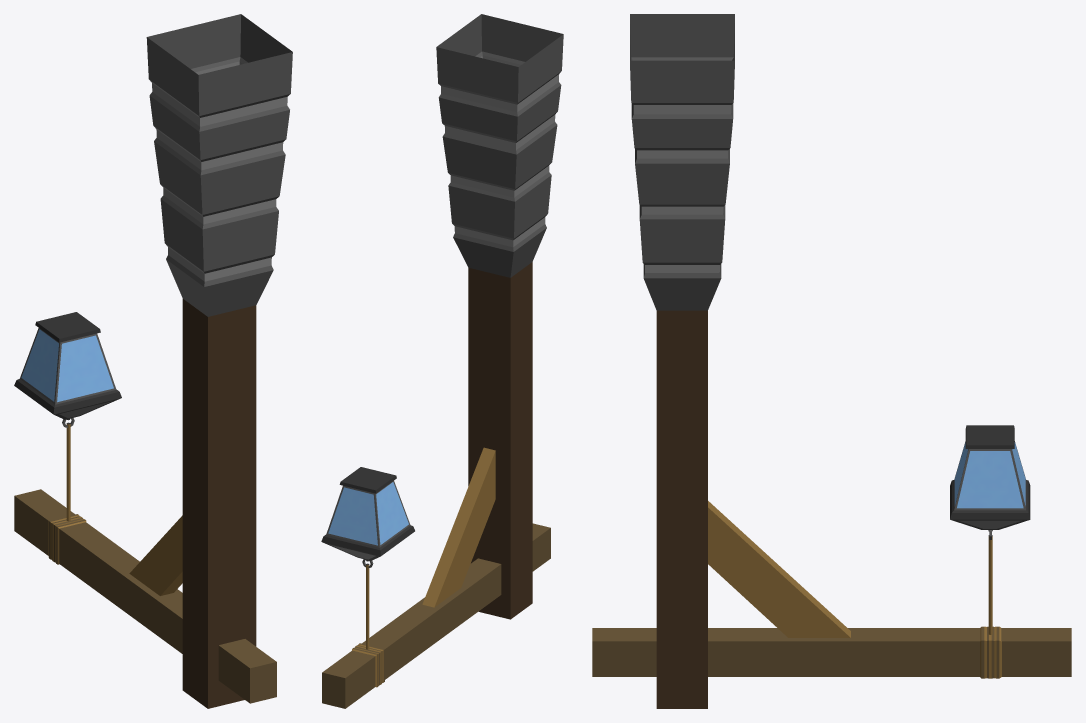
The model's file is sm_lamp_wood_2.fbx.
The picture shows the model from 3 angles, left to right: view 1: azimuth 30°, elevation 25°; view 2: azimuth 150°, elevation 25°; view 3: azimuth 270°, elevation 25°; orthographic projection. The views are drawn at different scales.
Visible parts, largest first — view 1: sm_lamp_wood_2; view 2: sm_lamp_wood_2; view 3: sm_lamp_wood_2.
Part boxes in pixels (box(x1,y1,x2,y2)): sm_lamp_wood_2: box(14, 14, 292, 708); sm_lamp_wood_2: box(321, 14, 563, 708); sm_lamp_wood_2: box(592, 14, 1071, 708).
Bounding box in the file's own units: 27.94 × 184 × 121.
